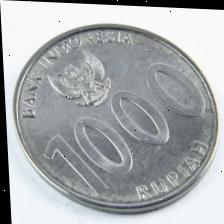coin_1000_e2010: (12, 21, 220, 217)
